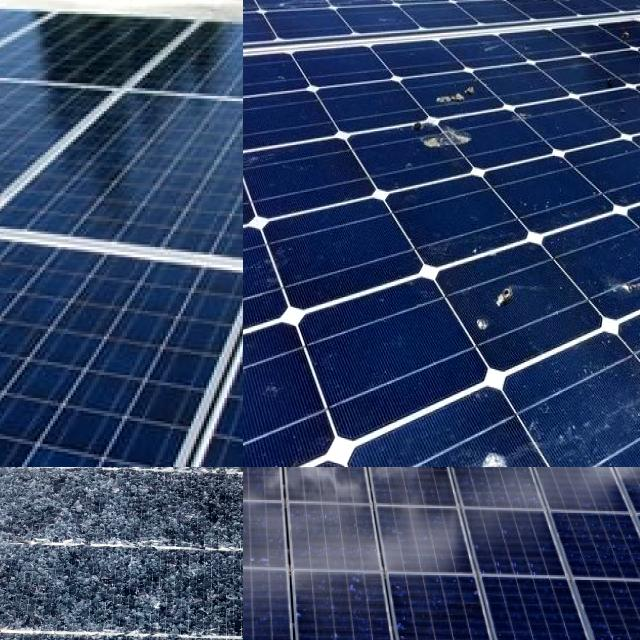bird: (453, 280, 546, 350), (584, 243, 640, 317), (604, 13, 640, 108), (422, 443, 529, 467), (410, 76, 490, 108), (408, 127, 492, 156)
crack: (54, 98, 243, 279), (124, 10, 243, 143)
panel: (298, 467, 479, 592), (489, 467, 640, 563), (243, 467, 319, 599), (243, 467, 267, 618)
